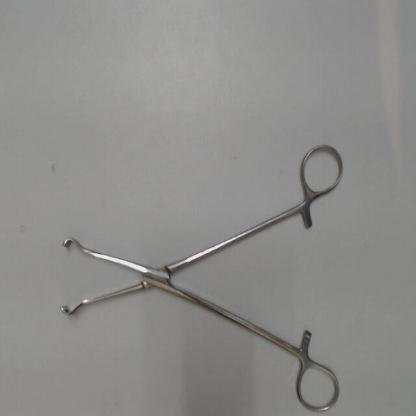8 Babcock Tissue Forceps: (52, 131, 354, 415)
